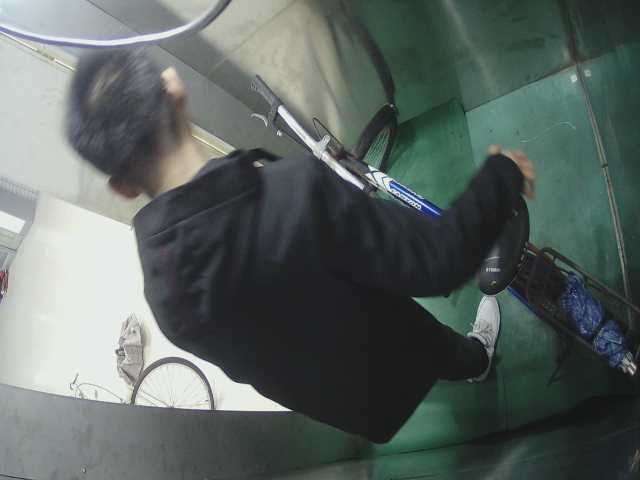bicycle: (248, 67, 640, 378), (60, 356, 224, 410)
person: (60, 42, 528, 424)
